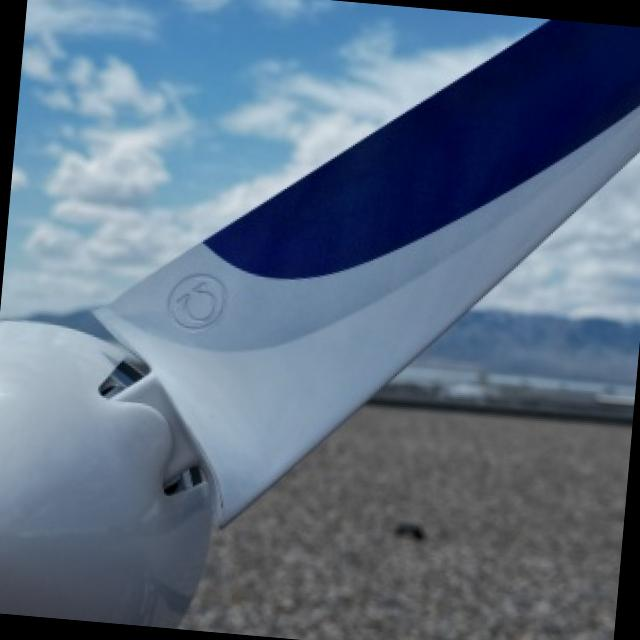healthy: (0, 0, 640, 626)
